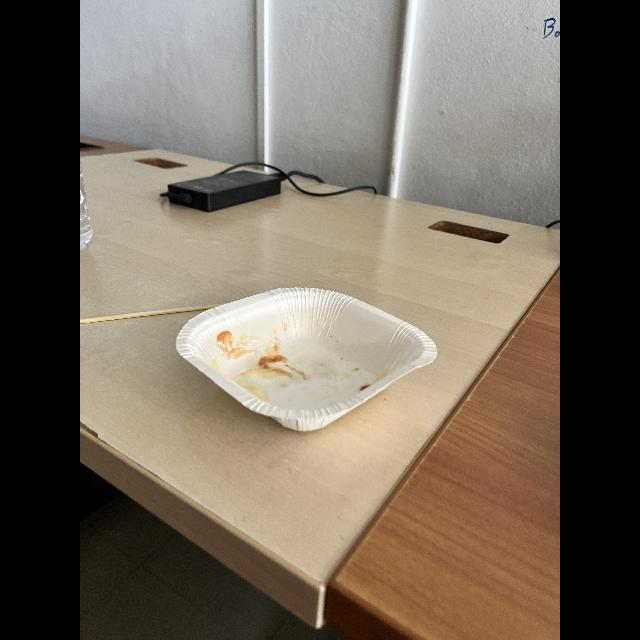cardboard_bowl: (172, 282, 442, 438)
stick: (80, 304, 216, 328)
